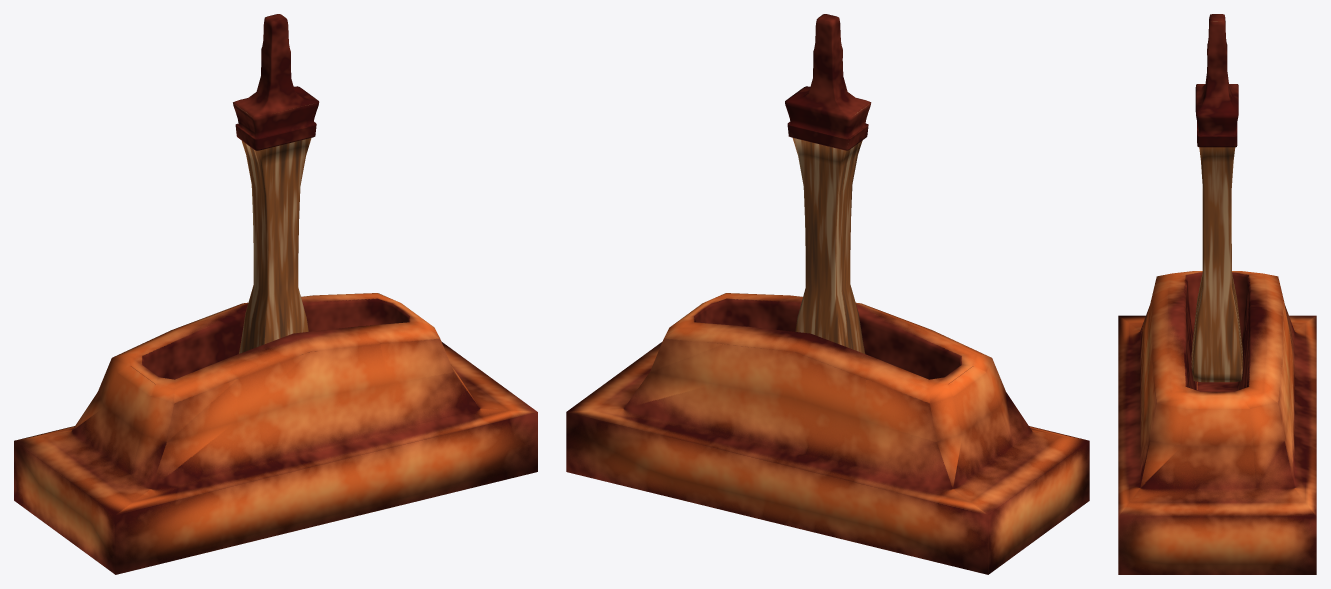
File: Levier.fbx
3 renders of one model, left to right at view 1: azimuth 30°, elevation 25°; view 2: azimuth 150°, elevation 25°; view 3: azimuth 270°, elevation 25°, orthographic. The views are drawn at different scales.
Parts seen in each view (by area): view 1: Plane.001, Cube; view 2: Plane.001, Cube; view 3: Plane.001, Cube.
Boxes of the visible parts, x1=… form: Plane.001: x1=14, y1=293, x2=537, y2=574; Cube: x1=233, y1=14, x2=319, y2=353; Plane.001: x1=566, y1=293, x2=1089, y2=574; Cube: x1=785, y1=14, x2=871, y2=353; Plane.001: x1=1118, y1=271, x2=1316, y2=574; Cube: x1=1191, y1=14, x2=1242, y2=382.
Bounding box in the file's own units: 189 × 200 × 78.65.
2 materials, 2 textured.
